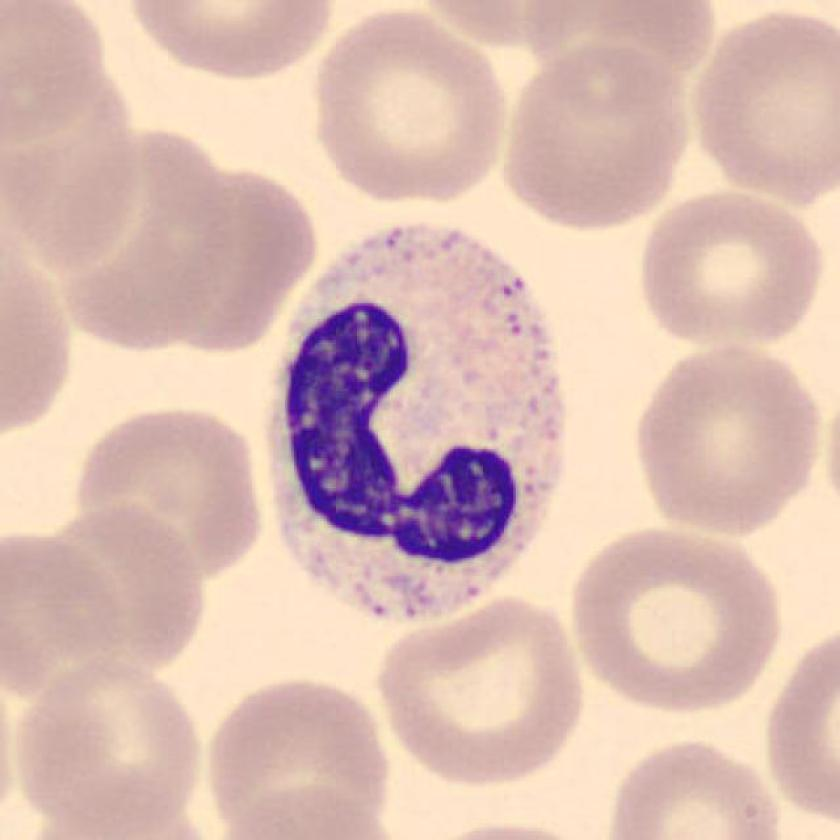neutrophil: (268, 223, 567, 620)
